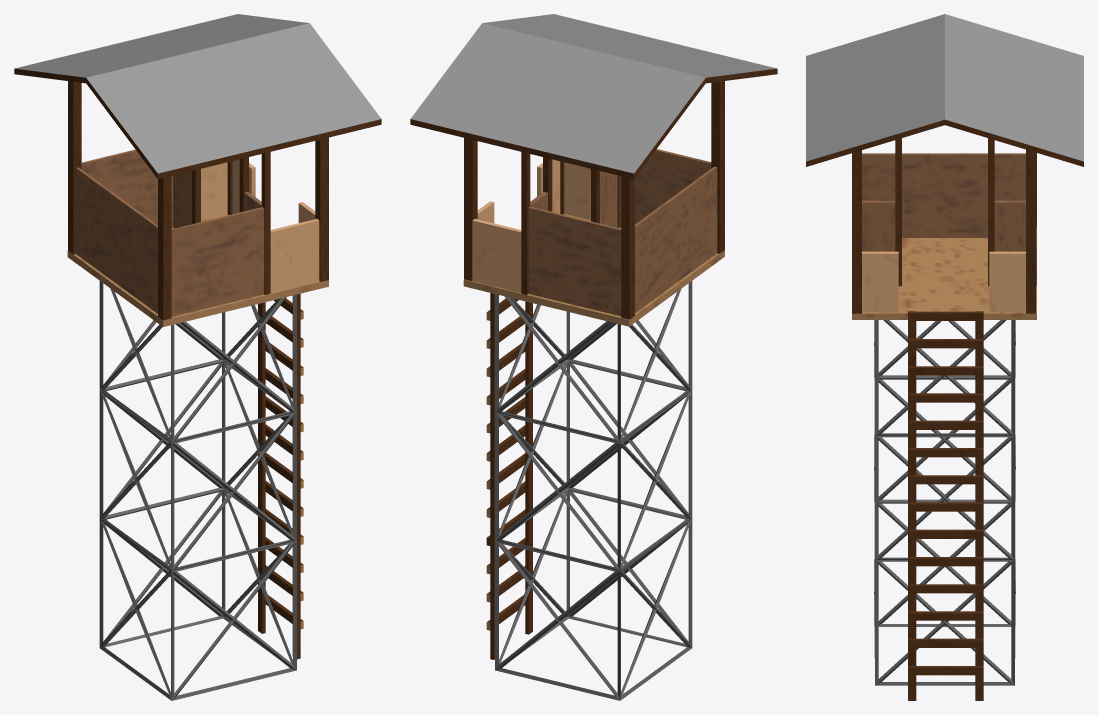
Rendered from SM_Bld_WatchTower.fbx.
The picture shows the model from 3 angles, left to right: view 1: azimuth 30°, elevation 25°; view 2: azimuth 150°, elevation 25°; view 3: azimuth 270°, elevation 25°; orthographic projection. The views are drawn at different scales.
Parts seen in each view (by area): view 1: SM_Bld_WatchTower; view 2: SM_Bld_WatchTower; view 3: SM_Bld_WatchTower.
Part boxes in pixels (x1=…): SM_Bld_WatchTower: x1=14, y1=14, x2=381, y2=700; SM_Bld_WatchTower: x1=410, y1=14, x2=777, y2=700; SM_Bld_WatchTower: x1=806, y1=14, x2=1083, y2=700.
Size of the model in its own units: 2.7 by 7.09 by 3.
Materials: 2 (2 with a texture image).
